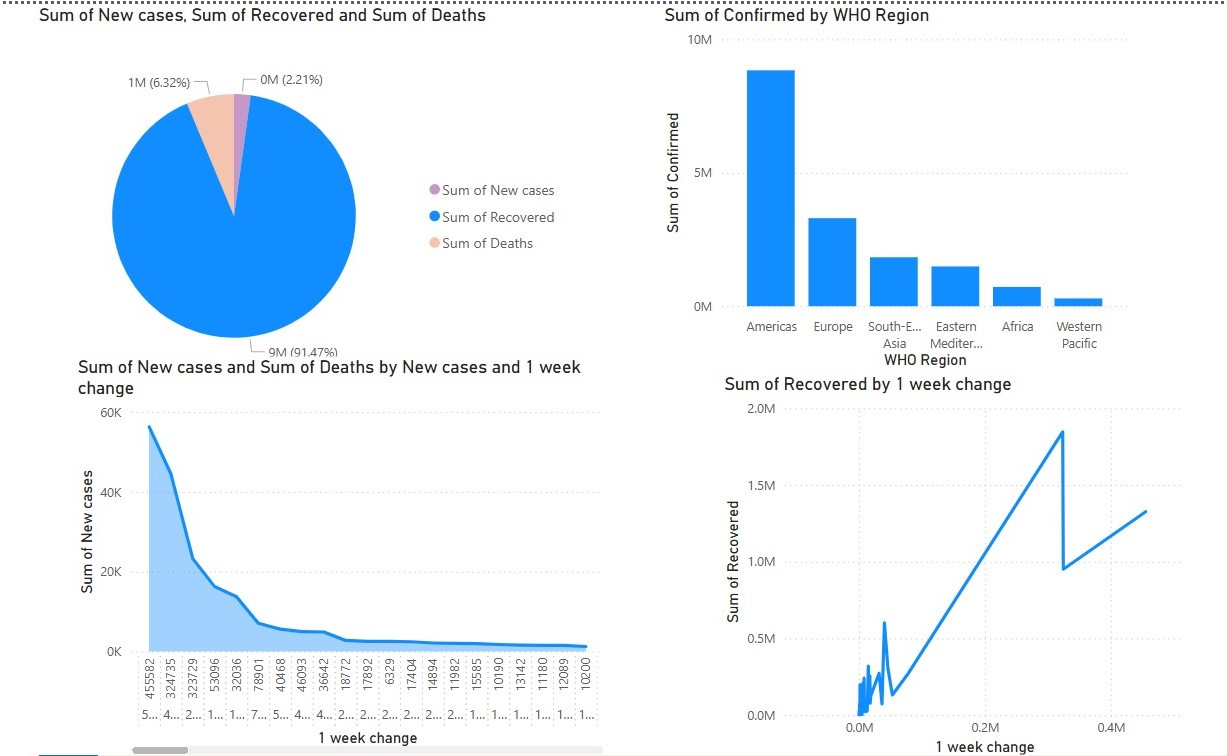

Layout of this report page (visuals, bound fields, positions):
{"tool":"powerbi","page":{"name":"Page 1","canvas":[1280,720],"ordinal":0},"visuals":[{"type":"pieChart","fields":{"Y":["Sum(country_wise_latest.New cases)","Sum(country_wise_latest.Recovered)","Sum(country_wise_latest.Deaths)"]},"box":[113.4,0,510.2,383.6],"z":0},{"type":"clusteredColumnChart","fields":{"Category":["country_wise_latest.WHO Region"],"Y":["Sum(country_wise_latest.Confirmed)"]},"box":[708.7,0,451.7,351.5],"z":1},{"type":"areaChart","fields":{"Y":["Sum(country_wise_latest.New cases)"],"Category":["country_wise_latest.New cases","country_wise_latest.1 week change"]},"box":[149.3,336.4,510.2,383.6],"z":2},{"type":"lineChart","fields":{"Category":["country_wise_latest.1 week change"],"Y":["Sum(country_wise_latest.Recovered)"]},"box":[765.4,351.5,451.7,368.5],"z":3}]}

Visuals, with their boxes on the page's 1280x720 design canvas (x1, y1, x2, y2). These are canvas units, not pixel positions in the 1227x756 screenshot, which may show the page scaled, cropped or inside an application window:
pieChart - Sum(country_wise_latest.New cases) x Sum(country_wise_latest.Recovered): 113/0/624/384
clusteredColumnChart - country_wise_latest.WHO Region x Sum(country_wise_latest.Confirmed): 709/0/1160/352
areaChart - Sum(country_wise_latest.New cases) x country_wise_latest.New cases: 149/336/660/720
lineChart - country_wise_latest.1 week change x Sum(country_wise_latest.Recovered): 765/352/1217/720
